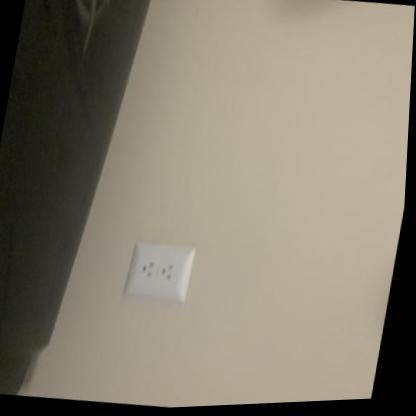OUTLET: (123, 239, 194, 302)
